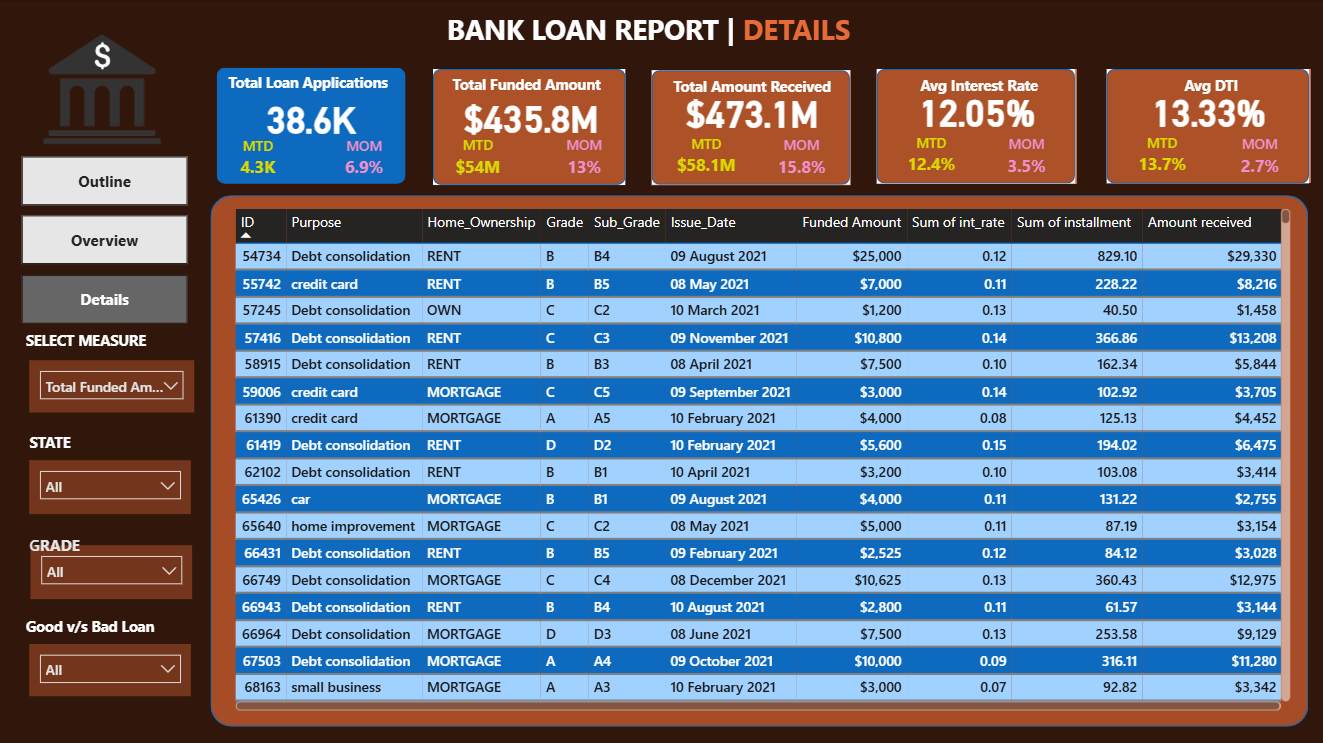

What the dashboard file says about the page in this screenshot:
{"tool":"powerbi","page":{"name":"Details","canvas":[1280,720],"ordinal":2},"visuals":[{"type":"group","id":"g1","title":"Group 1","box":[210.8,66.4,184,112.5],"z":0,"group":"g6"},{"type":"shape","box":[210.8,67,182,111.9],"z":0,"group":"g1"},{"type":"shape","box":[1069.8,67.2,195.1,110.6],"z":0,"group":"g5"},{"type":"shape","box":[847.9,67.5,191.3,110.6],"z":0,"group":"g4"},{"type":"shape","box":[419.4,67.6,185.8,111.8],"z":0,"group":"g2"},{"type":"shape","box":[630.3,68.8,191.3,110.6],"z":0,"group":"g3"},{"type":"shape","box":[205.2,189.6,1059.5,512.9],"z":0},{"type":"group","id":"g2","title":"Group 1","box":[419.2,67.5,186,111.9],"z":1000,"group":"g6"},{"type":"card","fields":{"Values":["bank_loan_data.Total Funded Amount"]},"box":[434.7,86.4,158.1,51.8],"z":1000,"group":"g2"},{"type":"card","fields":{"Values":["bank_loan_data.Avg DTI"]},"box":[1084.4,86.8,168.2,41.6],"z":1000,"group":"g5"},{"type":"card","fields":{"Values":["bank_loan_data.Total Amount received"]},"box":[862.2,87.1,164.9,41.6],"z":1000,"group":"g4"},{"type":"card","fields":{"Values":["bank_loan_data.Total Amount received"]},"box":[644.6,88.4,164.9,41.6],"z":1000,"group":"g3"},{"type":"card","fields":{"Values":["bank_loan_data.Total Loan Applications"]},"box":[222.9,89.6,158.3,49.4],"z":1000,"group":"g1"},{"type":"textbox","box":[24.7,414.2,156.3,31.3],"z":1000},{"type":"textbox","box":[216.6,66.4,178.2,37.7],"z":2000,"group":"g1"},{"type":"textbox","box":[419.2,67.5,180.5,45],"z":2000,"group":"g2"},{"type":"textbox","box":[1071.2,68,195.1,35.1],"z":2000,"group":"g5"},{"type":"textbox","box":[849.3,68.3,191.3,35.1],"z":2000,"group":"g4"},{"type":"group","id":"g3","title":"Group 1","box":[630.3,68.8,192.6,110.6],"z":2000,"group":"g6"},{"type":"textbox","box":[631.7,69.6,191.3,35.1],"z":2000,"group":"g3"},{"type":"textbox","box":[22.1,315.2,161.5,33.9],"z":2000},{"type":"slicer","fields":{"Values":["bank_loan_data.address_state"]},"box":[30,445.4,156.1,52],"z":2000,"group":"g7"},{"type":"group","id":"g4","title":"Group 1","box":[847.9,67.5,192.6,110.6],"z":3000,"group":"g6"},{"type":"card","title":"MTD ","fields":{"Values":["bank_loan_data.MTD DTI amount"]},"box":[1084.6,129.1,78,46.8],"z":3000,"group":"g5"},{"type":"card","title":"MTD ","fields":{"Values":["bank_loan_data.MTD avg amount"]},"box":[862.4,129.4,76.5,46.8],"z":3000,"group":"g4"},{"type":"card","title":"MTD ","fields":{"Values":["bank_loan_data.MTD total amount received"]},"box":[644.8,130.7,76.5,46.8],"z":3000,"group":"g3"},{"type":"card","title":"MTD ","fields":{"Values":["bank_loan_data.MTD Funded amount"]},"box":[434.7,131.4,55.3,47.7],"z":3000,"group":"g2"},{"type":"card","title":"MTD ","fields":{"Values":["bank_loan_data.MTD Loan Applications"]},"box":[222.9,132.5,55.4,45.5],"z":3000,"group":"g1"},{"type":"slicer","fields":{"Values":["bank_loan_data.grade"]},"box":[31.3,527.5,156.3,52.1],"z":3000},{"type":"group","id":"g5","title":"Group 1","box":[1069.8,67.2,196.5,110.6],"z":4000,"group":"g6"},{"type":"card","title":"MOM ","fields":{"Values":["bank_loan_data.MOM DTI Avg"]},"box":[1182.8,130.4,68.6,42.9],"z":4000,"group":"g5"},{"type":"card","title":"MOM ","fields":{"Values":["bank_loan_data.MOM Avg"]},"box":[958.7,130.7,67.3,42.9],"z":4000,"group":"g4"},{"type":"card","title":"MOM ","fields":{"Values":["bank_loan_data.MOM Funded"]},"box":[537.5,131.4,55.3,47.7],"z":4000,"group":"g2"},{"type":"card","title":"MOM ","fields":{"Values":["bank_loan_data.MOM total application"]},"box":[741.1,132,67.3,42.9],"z":4000,"group":"g3"},{"type":"card","title":"MOM ","fields":{"Values":["bank_loan_data.MOM Applications"]},"box":[325.8,132.5,55.4,45.5],"z":4000,"group":"g1"},{"type":"textbox","box":[22.1,590.7,161.3,31.2],"z":4000},{"type":"textbox","box":[428.1,6.5,443.7,48.1],"z":5000},{"type":"group","id":"g6","title":"Group 2","box":[210.8,66.4,1055.5,112.9],"z":6000},{"type":"group","id":"g7","title":"Group 4","box":[30,445.4,156.3,52.1],"z":7000},{"type":"textbox","box":[24.7,511.8,84.7,41.7],"z":8000},{"type":"tableEx","fields":{"Values":["bank_loan_data.id","bank_loan_data.purpose","bank_loan_data.home_ownership","bank_loan_data.grade","bank_loan_data.sub_grade","bank_loan_data.issue_date","bank_loan_data.Total Funded Amount","Sum(bank_loan_data.int_rate)","Sum(bank_loan_data.installment)","bank_loan_data.Total Amount received"]},"box":[222.7,198,1028.9,493.6],"z":9000},{"type":"slicer","fields":{"Values":["bank_loan_data.Good v/s bad Loan Status"]},"box":[30,622.5,156.3,50.8],"z":10000},{"type":"slicer","fields":{"Values":["Select Measure.Select Measure"]},"box":[30,349,158.9,50.8],"z":11000},{"type":"pageNavigator","box":[23.4,152.4,160.2,161.5],"z":12000},{"type":"image","box":[11.7,0,177.1,174.5],"z":13000}]}

Visuals, with their boxes in screenshot pixels (x1, y1, x2, y2), scaled from the page's 1280x720 canvas onto the 1323x743 screenshot:
"Group 1" group: <box>218,69,408,185</box>
shape: <box>218,69,406,185</box>
shape: <box>1106,69,1307,183</box>
shape: <box>876,70,1074,184</box>
shape: <box>433,70,626,185</box>
shape: <box>651,71,849,185</box>
shape: <box>212,196,1307,725</box>
"Group 1" group: <box>433,70,626,185</box>
card - bank_loan_data.Total Funded Amount: <box>449,89,613,143</box>
card - bank_loan_data.Avg DTI: <box>1121,90,1295,133</box>
card - bank_loan_data.Total Amount received: <box>891,90,1062,133</box>
card - bank_loan_data.Total Amount received: <box>666,91,837,134</box>
card - bank_loan_data.Total Loan Applications: <box>230,92,394,143</box>
textbox: <box>26,427,187,460</box>
textbox: <box>224,69,408,107</box>
textbox: <box>433,70,620,116</box>
textbox: <box>1107,70,1309,106</box>
textbox: <box>878,70,1076,107</box>
"Group 1" group: <box>651,71,851,185</box>
textbox: <box>653,72,851,108</box>
textbox: <box>23,325,190,360</box>
slicer - bank_loan_data.address_state: <box>31,460,192,513</box>
"Group 1" group: <box>876,70,1075,184</box>
"MTD " card: <box>1121,133,1202,182</box>
"MTD " card: <box>891,134,970,182</box>
"MTD " card: <box>666,135,746,183</box>
"MTD " card: <box>449,136,506,185</box>
"MTD " card: <box>230,137,288,184</box>
slicer - bank_loan_data.grade: <box>32,544,194,598</box>
"Group 1" group: <box>1106,69,1309,183</box>
"MOM " card: <box>1223,135,1293,179</box>
"MOM " card: <box>991,135,1060,179</box>
"MOM " card: <box>556,136,613,185</box>
"MOM " card: <box>766,136,836,180</box>
"MOM " card: <box>337,137,394,184</box>
textbox: <box>23,610,190,642</box>
textbox: <box>442,7,901,56</box>
"Group 2" group: <box>218,69,1309,185</box>
"Group 4" group: <box>31,460,193,513</box>
textbox: <box>26,528,113,571</box>
tableEx - bank_loan_data.id x bank_loan_data.purpose: <box>230,204,1294,714</box>
slicer - bank_loan_data.Good v/s bad Loan Status: <box>31,642,193,695</box>
slicer - Select Measure.Select Measure: <box>31,360,195,413</box>
pageNavigator: <box>24,157,190,324</box>
image: <box>12,0,195,180</box>
